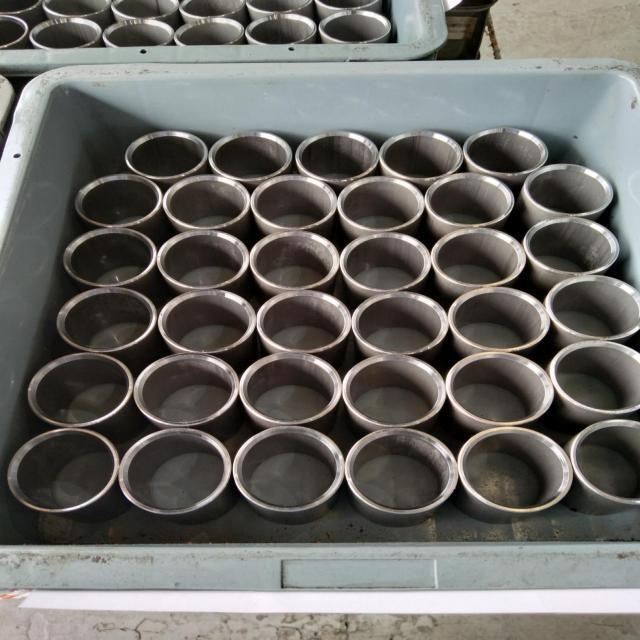pipe: (458, 425, 573, 515), (344, 428, 461, 515), (233, 424, 346, 514), (119, 427, 233, 516), (5, 427, 119, 515), (27, 351, 134, 429), (446, 351, 555, 427), (133, 351, 239, 428), (341, 353, 447, 428), (239, 352, 343, 425), (447, 285, 552, 354), (55, 286, 158, 354), (549, 340, 640, 415), (157, 289, 258, 355), (546, 274, 640, 344), (351, 291, 449, 356), (256, 289, 352, 354), (431, 227, 529, 289), (62, 227, 159, 289), (571, 419, 640, 506), (523, 216, 622, 275), (156, 229, 250, 290), (249, 229, 341, 290), (340, 232, 432, 293), (336, 175, 426, 233), (73, 172, 163, 229), (249, 173, 339, 230), (523, 163, 615, 218), (425, 173, 517, 228), (163, 174, 252, 230), (208, 129, 294, 182), (294, 131, 381, 182), (378, 130, 465, 180), (464, 126, 551, 176), (124, 130, 209, 180), (318, 9, 393, 44), (27, 17, 103, 50), (244, 12, 318, 44), (102, 17, 174, 49), (172, 17, 246, 46)
